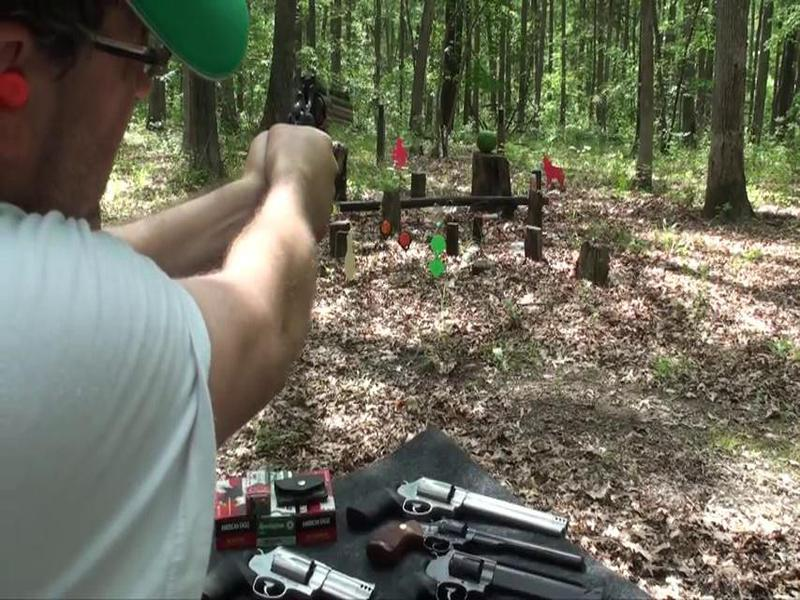Revolver: (280, 74, 370, 179)
